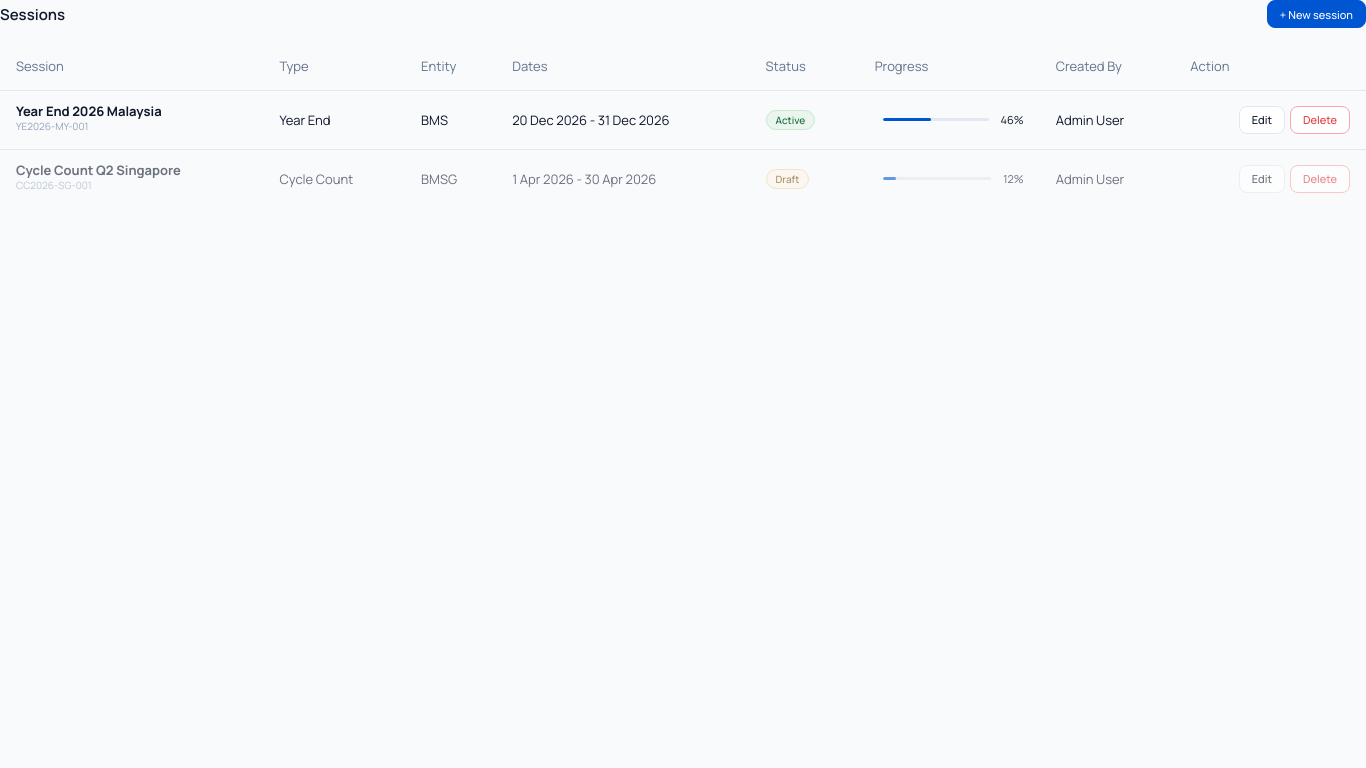
Test case: AdminHomePage › edits a session from the table
Expected: the text "Cycle Count Q2 Singapore" is shown, [16,162,181,178]
Click the button "Edit" in the row of "Cycle Count Q2 Singapore". click: x=1262, y=179
box: [1239,165,1285,193]
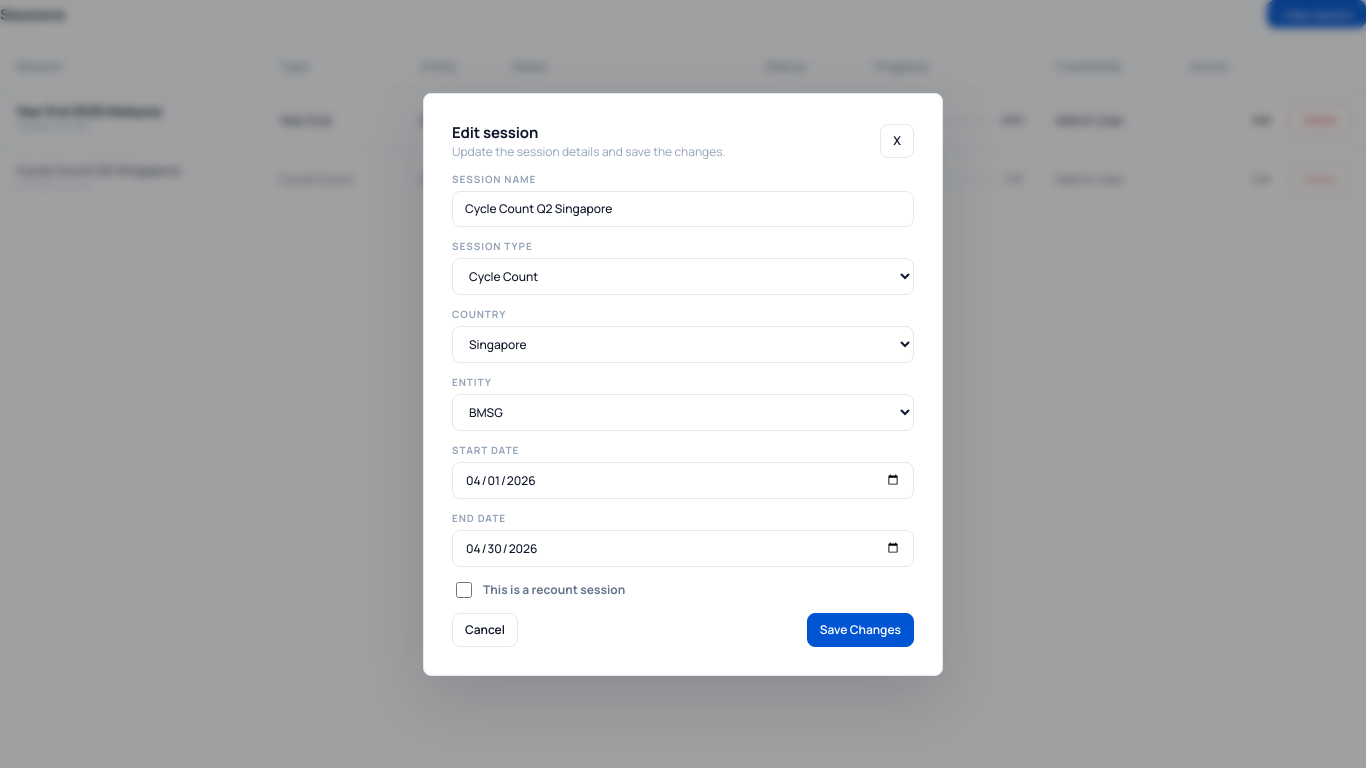
Replace the text in the field labelled "Session Name" with "Cycle Count Q2 Singapore (Edited)". click: x=683, y=208
box: [452,190,914,226]
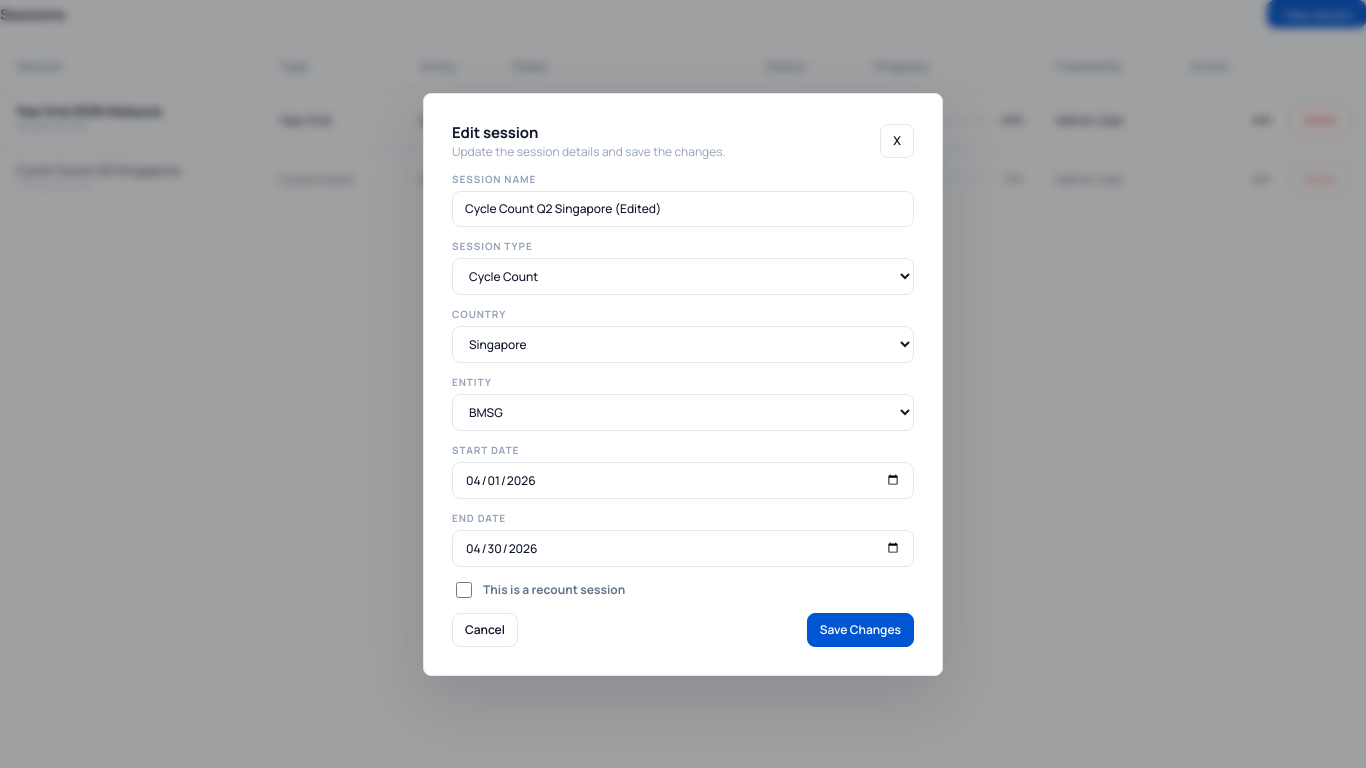
Click the button "Save Changes". click: x=860, y=630
box: [807,612,914,646]
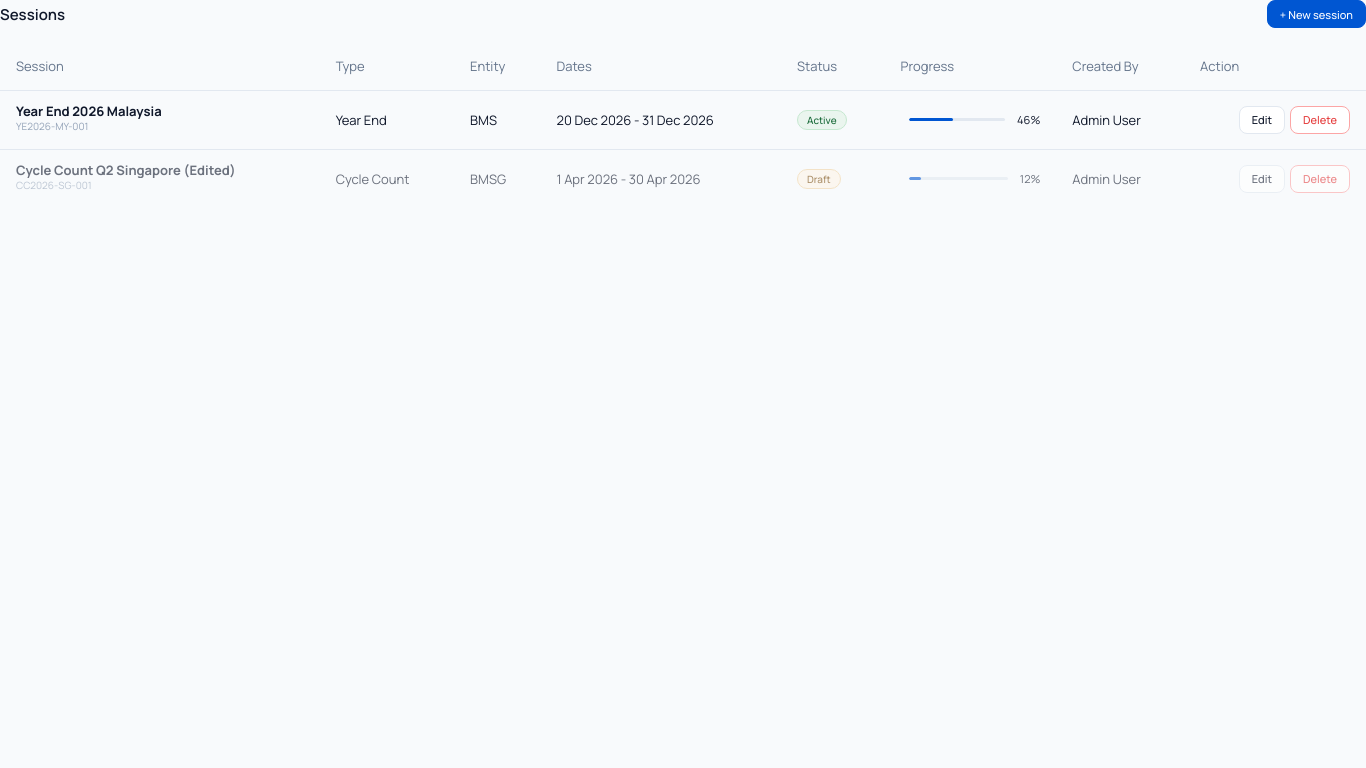
Result: the text "Cycle Count Q2 Singapore (Edited)" is shown at [16,162,236,178]
